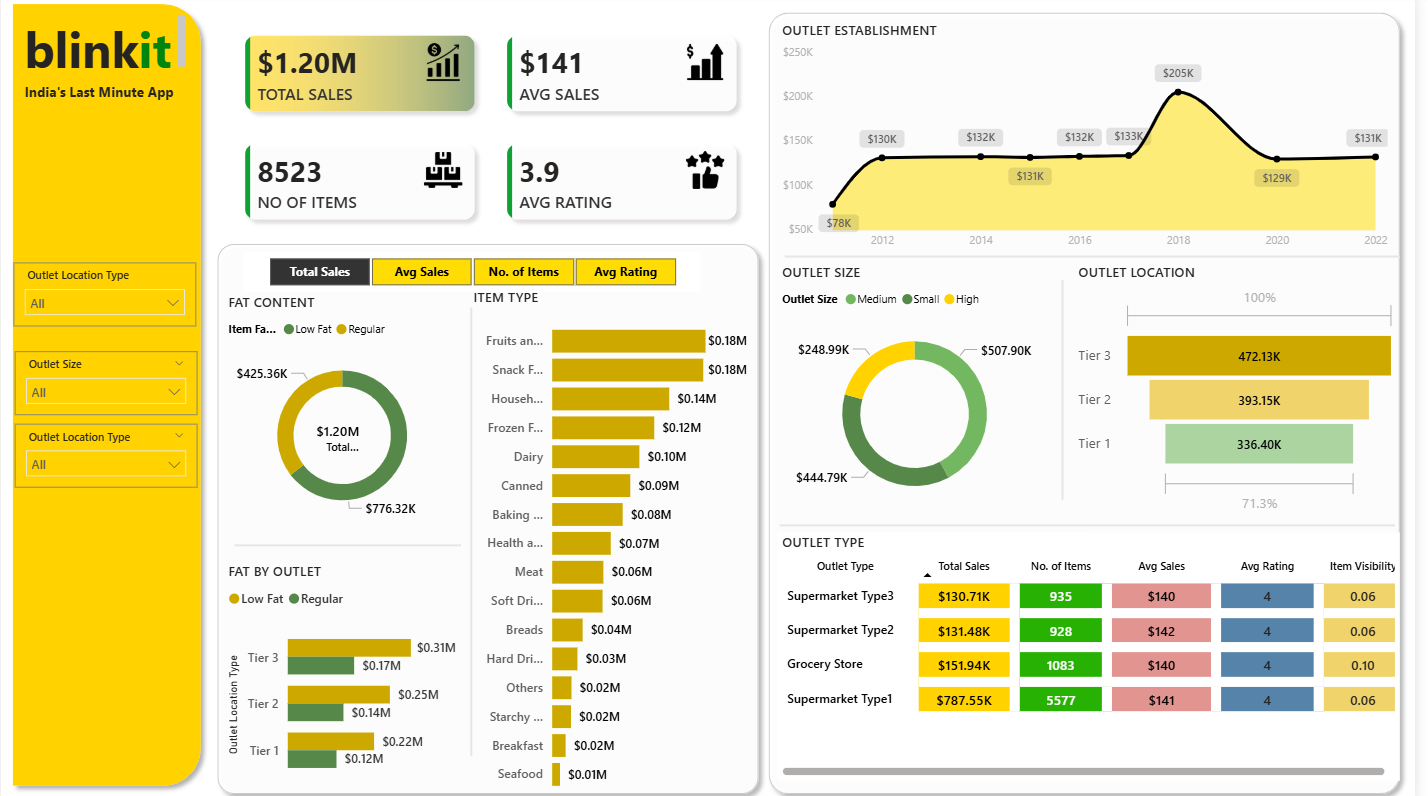

Layout of this report page (visuals, bound fields, positions):
{"tool":"powerbi","page":{"name":"Page 1","canvas":[1400,800],"ordinal":0},"visuals":[{"type":"shape","box":[2.1,0,204.3,791.5],"z":0},{"type":"textbox","box":[18.8,81.8,170.2,33.5],"z":1000},{"type":"cardVisual","fields":{"Data":["BlinkIT Grocery Data.Total Sales","BlinkIT Grocery Data.Avg Sales","BlinkIT Grocery Data.No. of Items","BlinkIT Grocery Data.Avg Rating"]},"box":[212.8,11.7,545.1,241.4],"z":2000},{"type":"shape","box":[204.8,237.8,553.2,562.1],"z":3000},{"type":"donutChart","title":"FAT CONTENT","fields":{"Category":["BlinkIT Grocery Data.Item Fat Content"],"Y":["BlinkIT Grocery Data.Total Sales"]},"box":[220,293.8,235.3,237.8],"z":4000},{"type":"slicer","fields":{"Values":["Metrics.Metrics"]},"box":[239.9,253.4,451.7,40.2],"z":5000},{"type":"clusteredBarChart","title":"FAT BY OUTLET","fields":{"Category":["BlinkIT Grocery Data.Outlet Location Type"],"Series":["BlinkIT Grocery Data.Item Fat Content"],"Y":["BlinkIT Grocery Data.Total Sales"]},"box":[220,560.9,235.3,230.2],"z":6000},{"type":"shape","box":[231.5,531.6,223.8,25.4],"z":7000},{"type":"shape","box":[455.3,309,20.3,443.9],"z":8000},{"type":"barChart","title":"ITEM TYPE","fields":{"Category":["BlinkIT Grocery Data.Item Type"],"Y":["BlinkIT Grocery Data.Total Sales"]},"box":[462.9,290,281.1,510],"z":9000},{"type":"shape","box":[750.4,8.9,642.3,791.1],"z":10000},{"type":"lineChart","title":"OUTLET ESTABLISHMENT","fields":{"Category":["BlinkIT Grocery Data.Outlet Establishment Year"],"Y":["BlinkIT Grocery Data.Total Sales"]},"box":[768.2,24.2,609.2,235.3],"z":11000},{"type":"shape","box":[775.8,246.7,609.2,25.4],"z":12000},{"type":"donutChart","title":"OUTLET SIZE","fields":{"Category":["BlinkIT Grocery Data.Outlet Size"],"Y":["BlinkIT Grocery Data.Total Sales"]},"box":[768.2,264.5,272.2,254.4],"z":13000},{"type":"shape","box":[1040.3,282.3,20.3,217.5],"z":14000},{"type":"funnel","title":"OUTLET LOCATION ","fields":{"Category":["BlinkIT Grocery Data.Outlet Location Type"],"Y":["Sum(BlinkIT Grocery Data.Sales)"]},"box":[1060.7,264.5,324.3,254.4],"z":15000},{"type":"shape","box":[770.7,512.5,609.2,25.4],"z":16000},{"type":"pivotTable","title":"OUTLET TYPE","fields":{"Rows":["BlinkIT Grocery Data.Outlet Type"],"Values":["BlinkIT Grocery Data.Total Sales","BlinkIT Grocery Data.No. of Items","BlinkIT Grocery Data.Avg Sales","BlinkIT Grocery Data.Avg Rating","Avg(BlinkIT Grocery Data.Item Visibility)"]},"box":[768.1,531.9,616,245.7],"z":17000},{"type":"slicer","fields":{"Values":["BlinkIT Grocery Data.Outlet Location Type"]},"box":[12.7,264.5,180.6,63.6],"z":18000},{"type":"slicer","fields":{"Values":["BlinkIT Grocery Data.Outlet Size"]},"box":[14,352.3,180.6,63.6],"z":19000},{"type":"slicer","fields":{"Values":["BlinkIT Grocery Data.Outlet Location Type"]},"box":[14,424.8,180.6,63.6],"z":20000},{"type":"cardVisual","fields":{"Data":["BlinkIT Grocery Data.Total Sales"]},"box":[279.8,400.6,108.1,75],"z":21000},{"type":"textbox","box":[12.8,14.9,175.5,67],"z":22000}]}

Visuals, with their boxes in screenshot pixels (x1, y1, x2, y2), scaled from the page's 1400x800 canvas onto the 1428x796 screenshot:
shape: {"x1": 2, "y1": 0, "x2": 211, "y2": 788}
textbox: {"x1": 19, "y1": 81, "x2": 193, "y2": 115}
cardVisual - BlinkIT Grocery Data.Total Sales x BlinkIT Grocery Data.Avg Sales: {"x1": 217, "y1": 12, "x2": 773, "y2": 252}
shape: {"x1": 209, "y1": 237, "x2": 773, "y2": 795}
"FAT CONTENT" donutChart: {"x1": 224, "y1": 292, "x2": 464, "y2": 529}
slicer - Metrics.Metrics: {"x1": 245, "y1": 252, "x2": 705, "y2": 292}
"FAT BY OUTLET" clusteredBarChart: {"x1": 224, "y1": 558, "x2": 464, "y2": 787}
shape: {"x1": 236, "y1": 529, "x2": 464, "y2": 554}
shape: {"x1": 464, "y1": 307, "x2": 485, "y2": 749}
"ITEM TYPE" barChart: {"x1": 472, "y1": 289, "x2": 759, "y2": 795}
shape: {"x1": 765, "y1": 9, "x2": 1421, "y2": 795}
"OUTLET ESTABLISHMENT" lineChart: {"x1": 784, "y1": 24, "x2": 1405, "y2": 258}
shape: {"x1": 791, "y1": 245, "x2": 1413, "y2": 271}
"OUTLET SIZE" donutChart: {"x1": 784, "y1": 263, "x2": 1061, "y2": 516}
shape: {"x1": 1061, "y1": 281, "x2": 1082, "y2": 497}
"OUTLET LOCATION " funnel: {"x1": 1082, "y1": 263, "x2": 1413, "y2": 516}
shape: {"x1": 786, "y1": 510, "x2": 1407, "y2": 535}
"OUTLET TYPE" pivotTable: {"x1": 783, "y1": 529, "x2": 1412, "y2": 774}
slicer - BlinkIT Grocery Data.Outlet Location Type: {"x1": 13, "y1": 263, "x2": 197, "y2": 326}
slicer - BlinkIT Grocery Data.Outlet Size: {"x1": 14, "y1": 351, "x2": 198, "y2": 414}
slicer - BlinkIT Grocery Data.Outlet Location Type: {"x1": 14, "y1": 423, "x2": 198, "y2": 486}
cardVisual - BlinkIT Grocery Data.Total Sales: {"x1": 285, "y1": 399, "x2": 396, "y2": 473}
textbox: {"x1": 13, "y1": 15, "x2": 192, "y2": 81}
